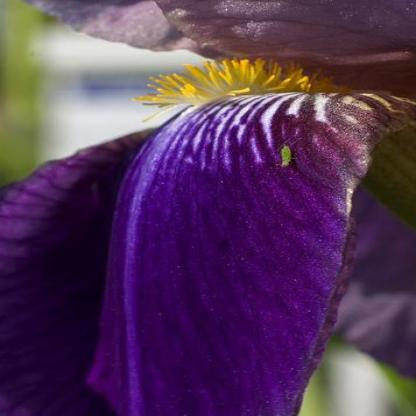aphid: (268, 133, 310, 177)
